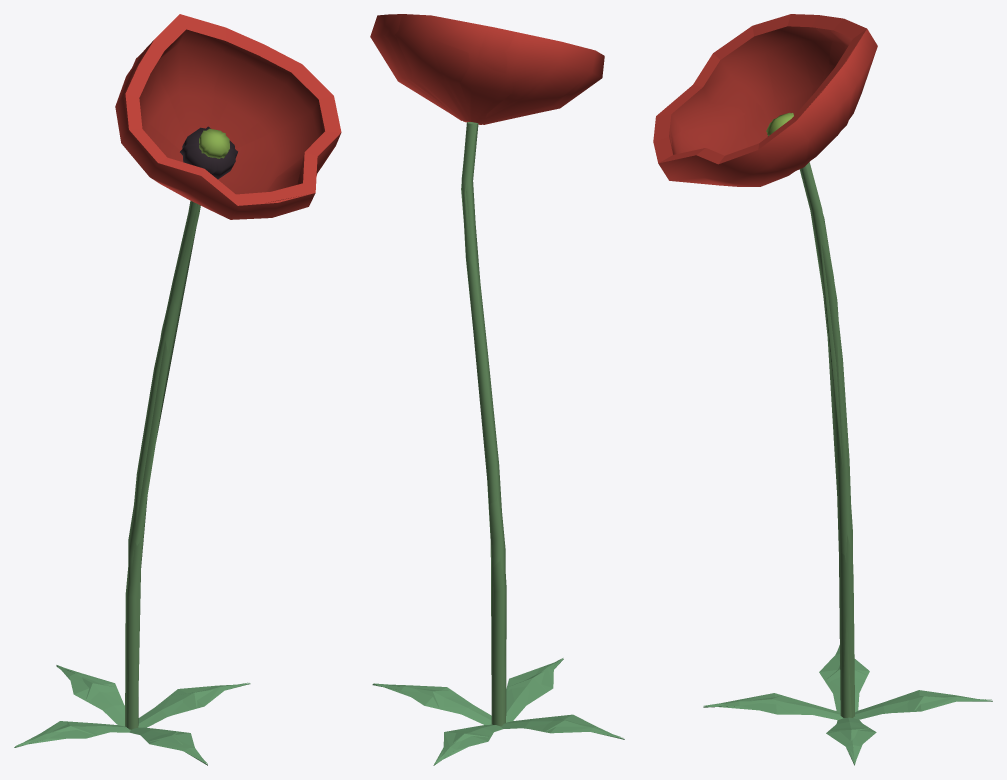
File: poppy_red.glb
3 views of the same model, side by side, from view 1: azimuth 30°, elevation 25°; view 2: azimuth 150°, elevation 25°; view 3: azimuth 270°, elevation 25° (orthographic). The views are drawn at different scales.
Parts seen in each view (by area): view 1: body__far, petal_red_nl, stem, leaf_nl, center_black_nl, center_green_nl; view 2: petal_red_nl, body__far, stem, leaf_nl; view 3: body__far, petal_red_nl, leaf_nl, stem.
Part boxes in pixels (x1=…): body__far: x1=15, y1=14, x2=341, y2=763; petal_red_nl: x1=115, y1=32, x2=314, y2=219; stem: x1=125, y1=200, x2=200, y2=729; leaf_nl: x1=14, y1=665, x2=250, y2=765; center_black_nl: x1=182, y1=127, x2=235, y2=179; center_green_nl: x1=199, y1=128, x2=229, y2=158; petal_red_nl: x1=370, y1=14, x2=591, y2=124; body__far: x1=373, y1=14, x2=622, y2=763; stem: x1=461, y1=122, x2=506, y2=726; leaf_nl: x1=372, y1=658, x2=624, y2=765; body__far: x1=653, y1=14, x2=991, y2=763; petal_red_nl: x1=669, y1=26, x2=877, y2=186; leaf_nl: x1=703, y1=648, x2=992, y2=765; stem: x1=799, y1=162, x2=854, y2=717.
Size of the model in its own units: 8.76 by 20.82 by 8.91.
